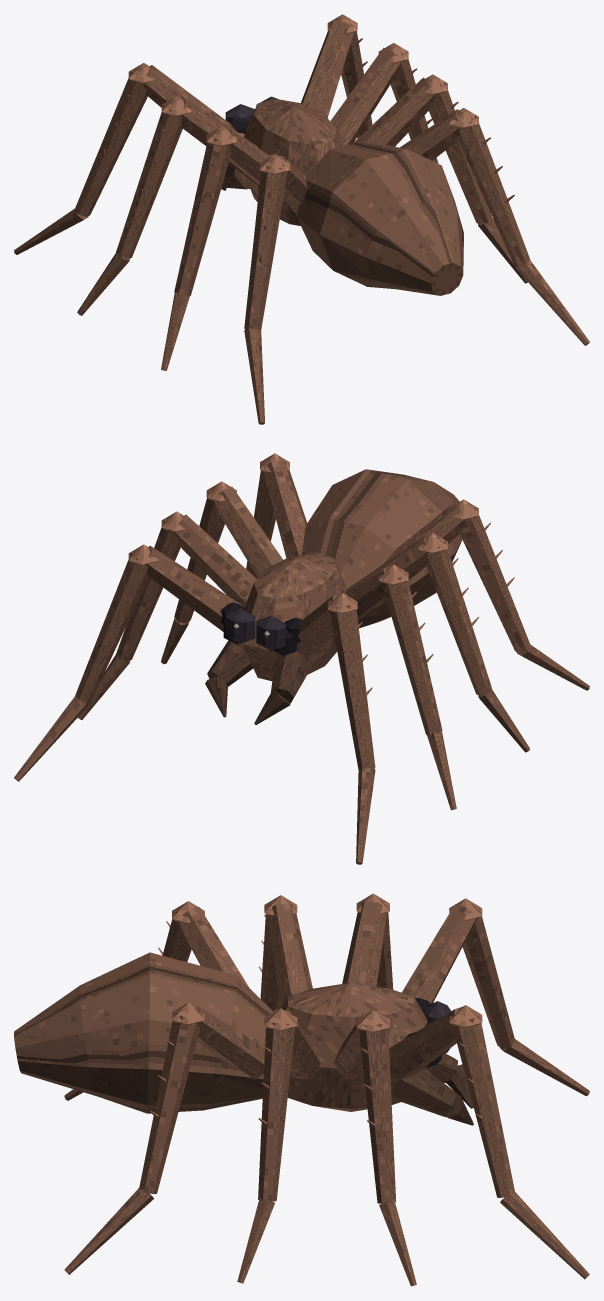
Rendered from mon_spider_wolf_small.glb.
3 renders of one model, top to bottom at view 1: azimuth 30°, elevation 25°; view 2: azimuth 150°, elevation 25°; view 3: azimuth 270°, elevation 25°, orthographic. The views are drawn at different scales.
Visible parts, largest first — view 1: closed_body; view 2: closed_body; view 3: closed_body.
Part boxes in pixels (x1,y1,x2,y2): closed_body: (14, 14, 589, 424); closed_body: (14, 453, 589, 864); closed_body: (14, 893, 589, 1286).
Size of the model in its own units: 1.14 by 0.617 by 1.37.
Materials: 1 (1 with a texture image).
